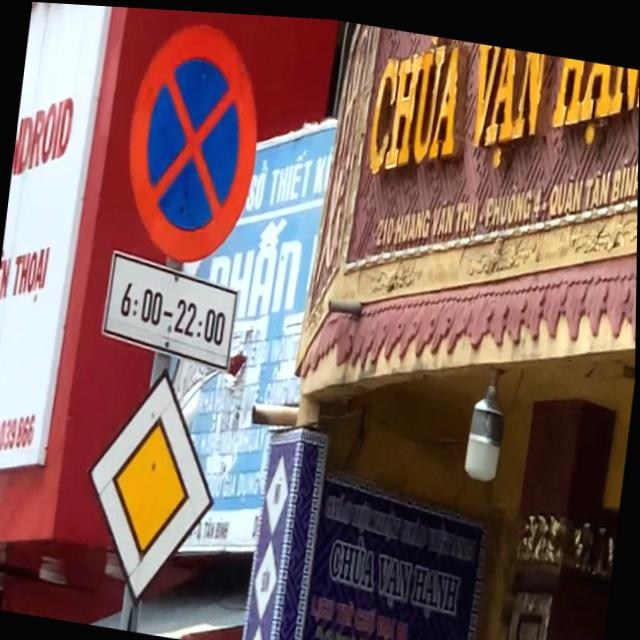Cam dung xe va do xe: (111, 5, 273, 267)
